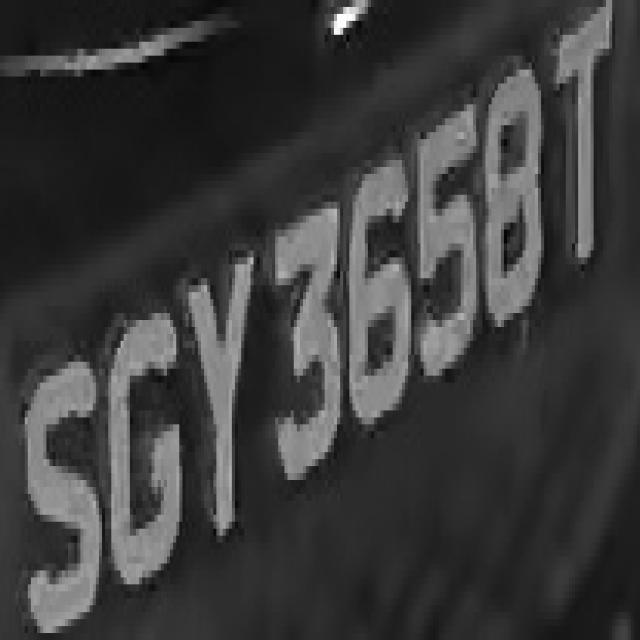3: (266, 202, 349, 487)
5: (408, 98, 482, 396)
6: (346, 153, 421, 445)
8: (479, 28, 554, 355)
G: (105, 278, 186, 612)
S: (22, 369, 111, 619)
T: (554, 7, 622, 278)
Y: (176, 243, 269, 550)
